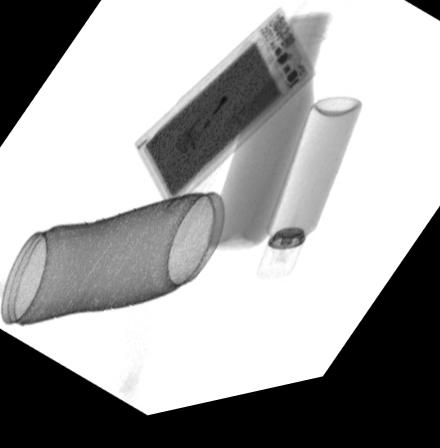Lighter: (174, 52, 265, 166)
Powerbank: (132, 15, 318, 218)
Sprayer: (252, 111, 361, 292)
